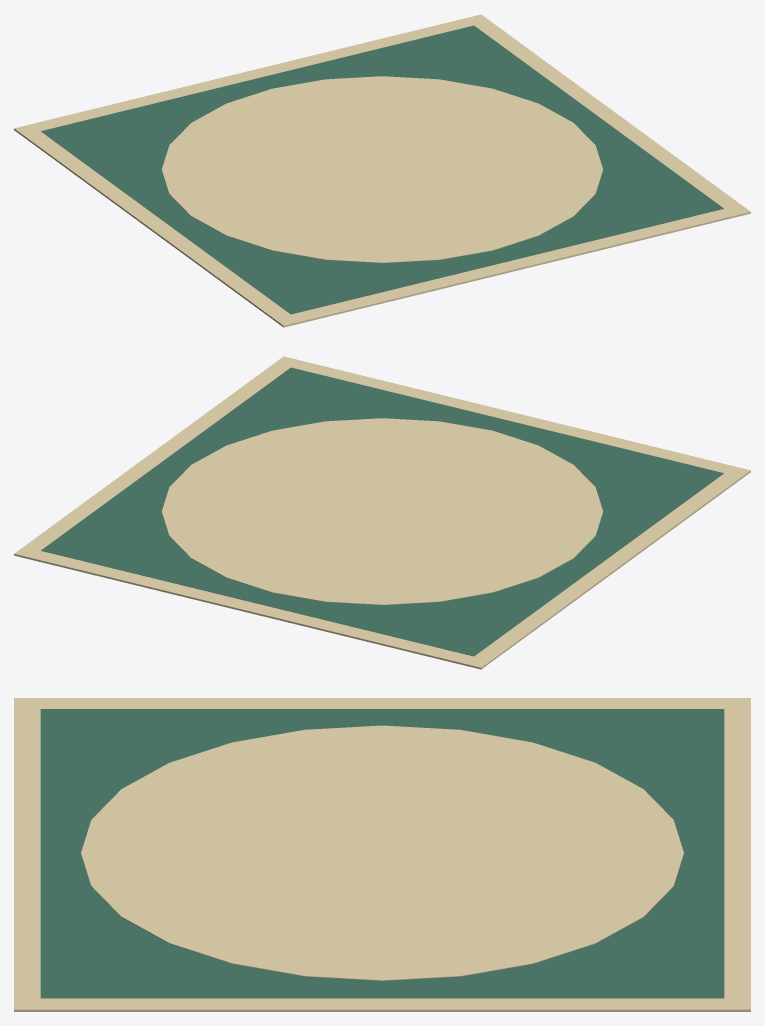
The model's file is rug_round.fbx.
The picture shows the model from 3 angles, top to bottom: view 1: azimuth 30°, elevation 25°; view 2: azimuth 150°, elevation 25°; view 3: azimuth 270°, elevation 25°; orthographic projection. The views are drawn at different scales.
Visible parts, largest first — view 1: rug_round; view 2: rug_round; view 3: rug_round.
Boxes of the visible parts, x1,y1,x2,y2 form: rug_round: (14, 14, 750, 327); rug_round: (14, 356, 750, 669); rug_round: (14, 698, 750, 1011).
Bounding box in the file's own units: 2.2 × 0.0109 × 2.2.
